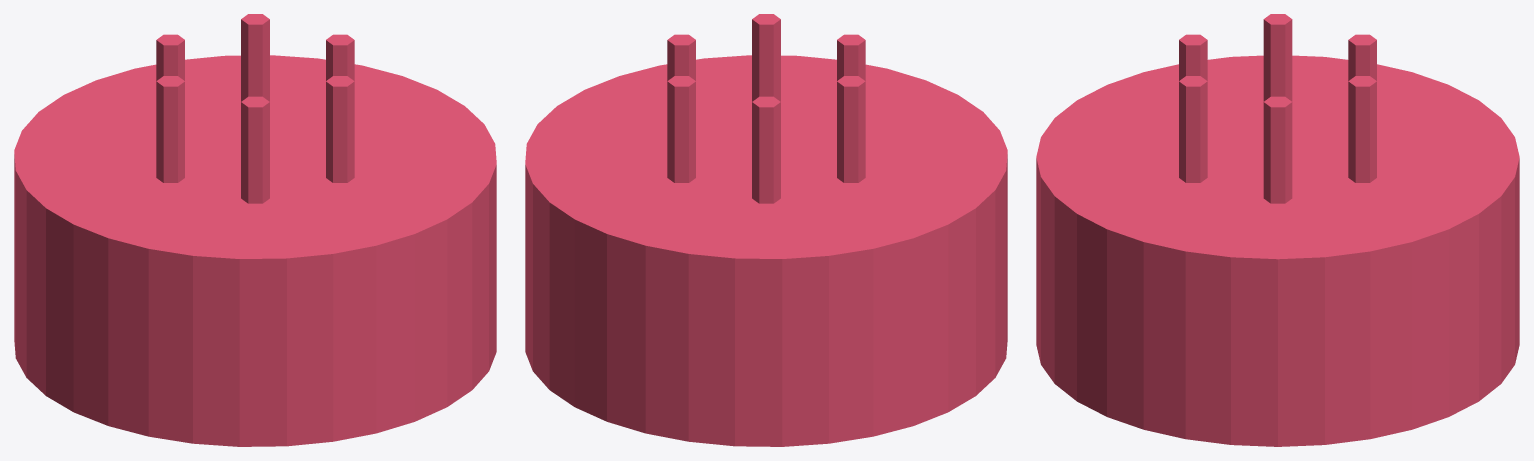
Rendered from Bubble Wrap.fbx.
3 views of the same model, side by side, from view 1: azimuth 30°, elevation 25°; view 2: azimuth 150°, elevation 25°; view 3: azimuth 270°, elevation 25° (orthographic).
Visible parts, largest first — view 1: bubble_wrap; view 2: bubble_wrap; view 3: bubble_wrap.
Part boxes in pixels (box(x1,y1,x2,y2)): bubble_wrap: box(14, 14, 496, 446); bubble_wrap: box(525, 14, 1007, 446); bubble_wrap: box(1036, 14, 1519, 446).
Size of the model in its own units: 84 by 54.5 by 84.
